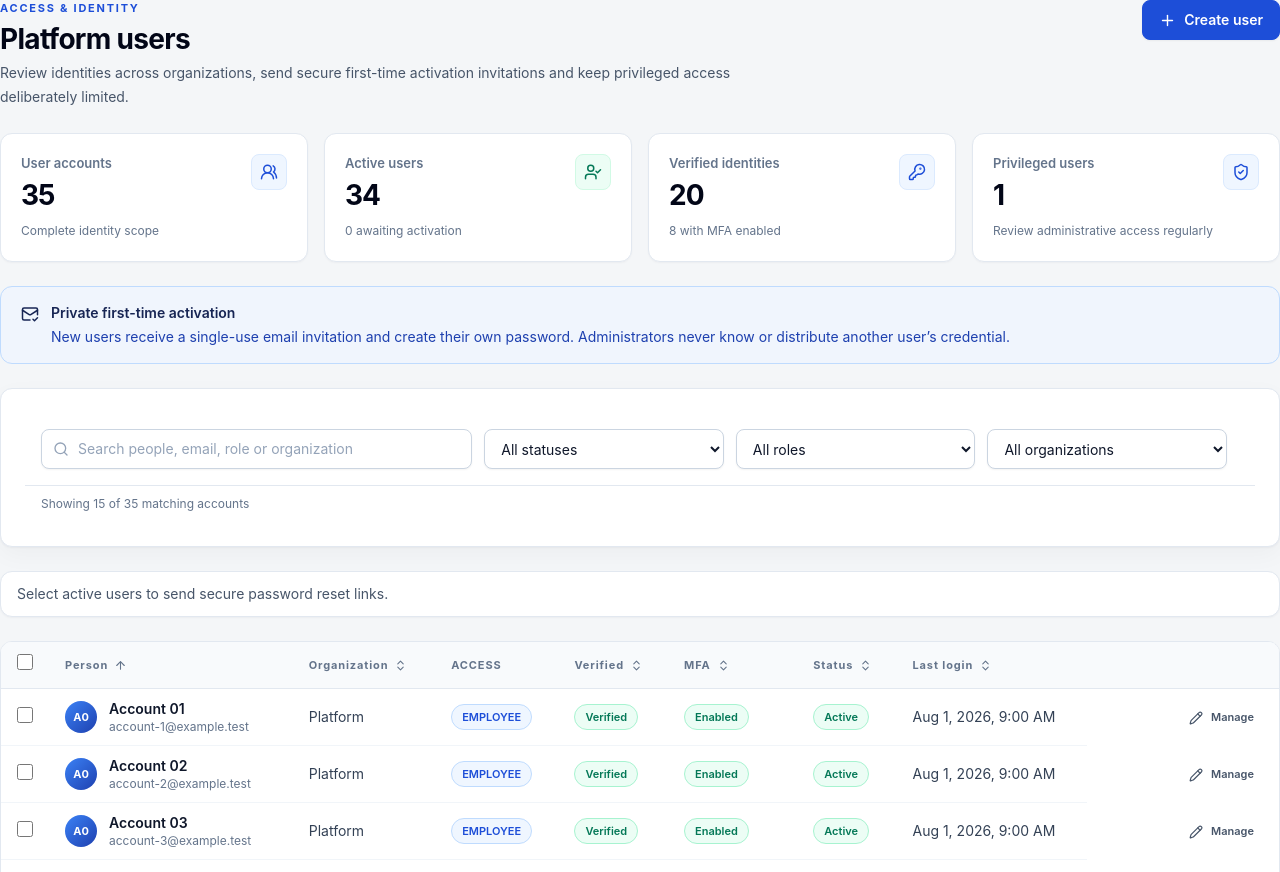
it: updates account lifecycle status and roles from the management dialog
Expected: the text "Showing 15 of 35 matching accounts" is shown, [25,485,1255,522]
Click the button with aria-label "Manage Account 01": [1222, 718] box [1180,704,1263,732]
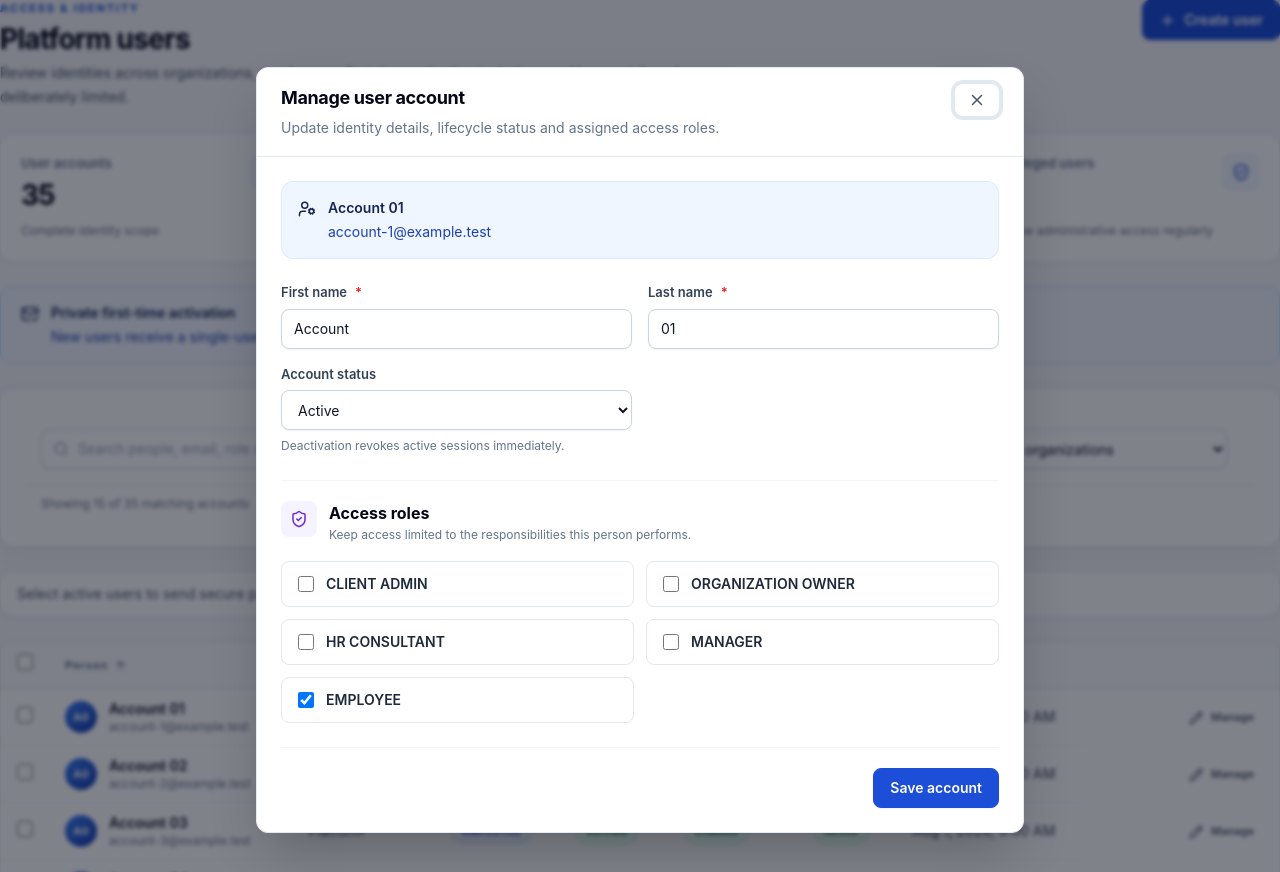
Select "Inactive" in the dropdown labelled "Account status": [456, 410] box [281,390,632,430]
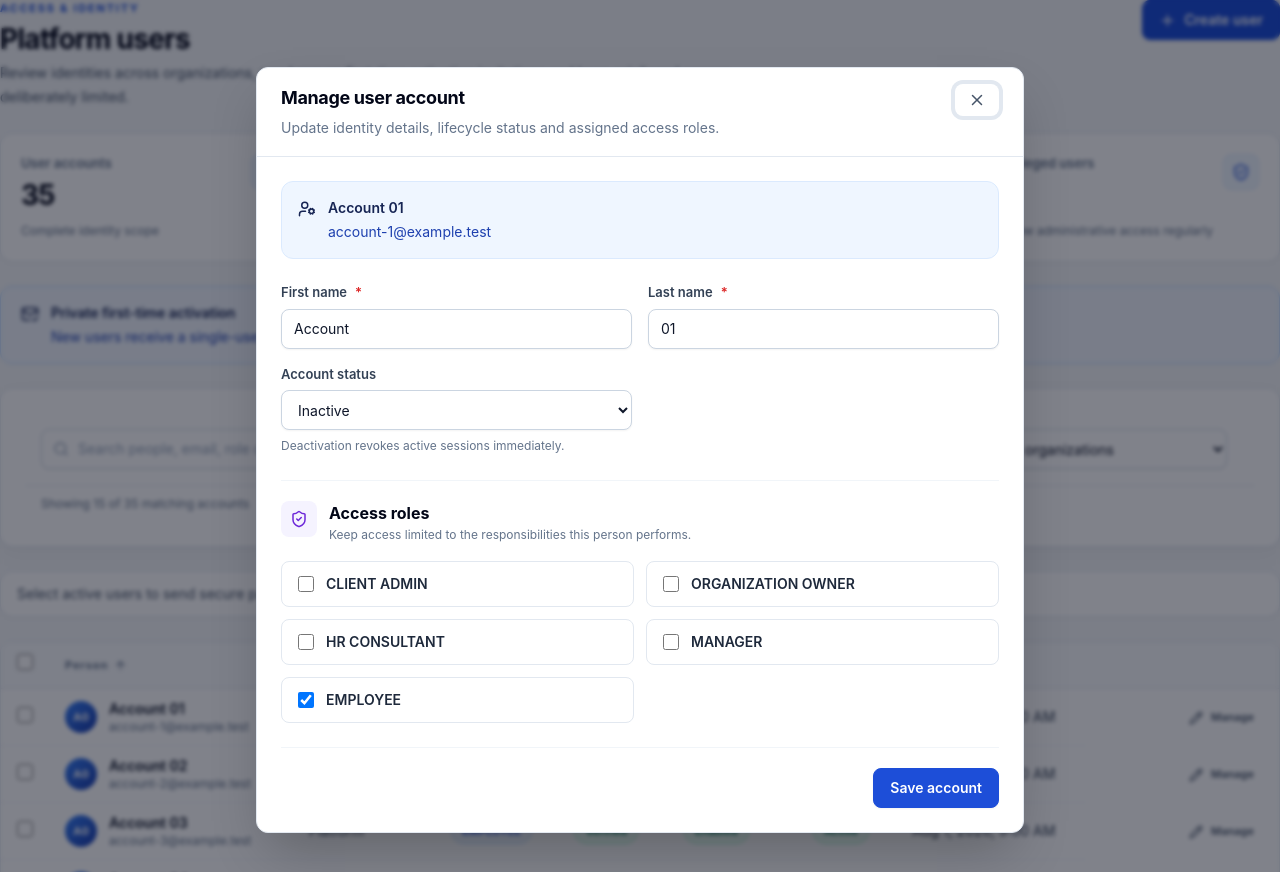
Click the checkbox labelled "MANAGER": [671, 642] box [663,634,679,650]
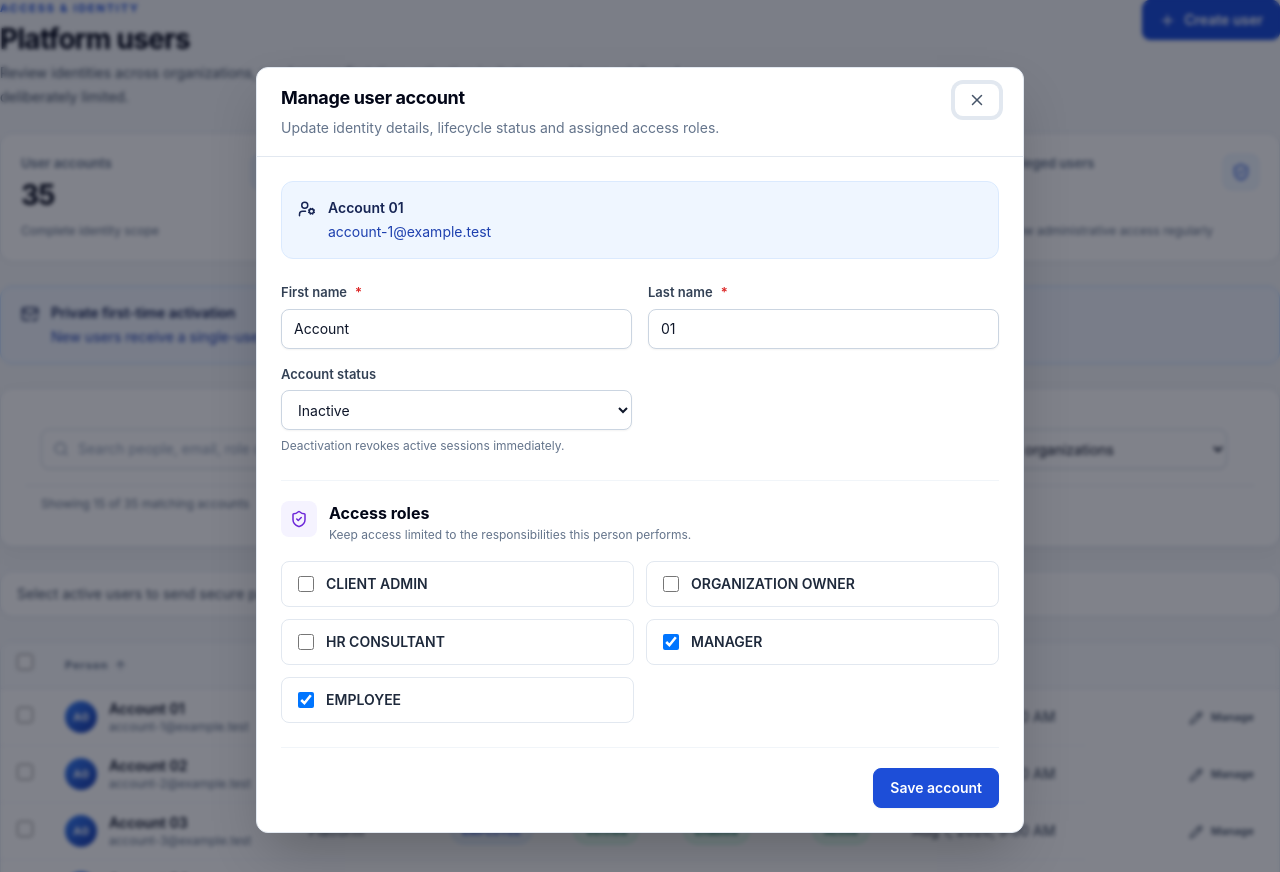
Click the button "Save account": [936, 788] box [873,768,999,808]
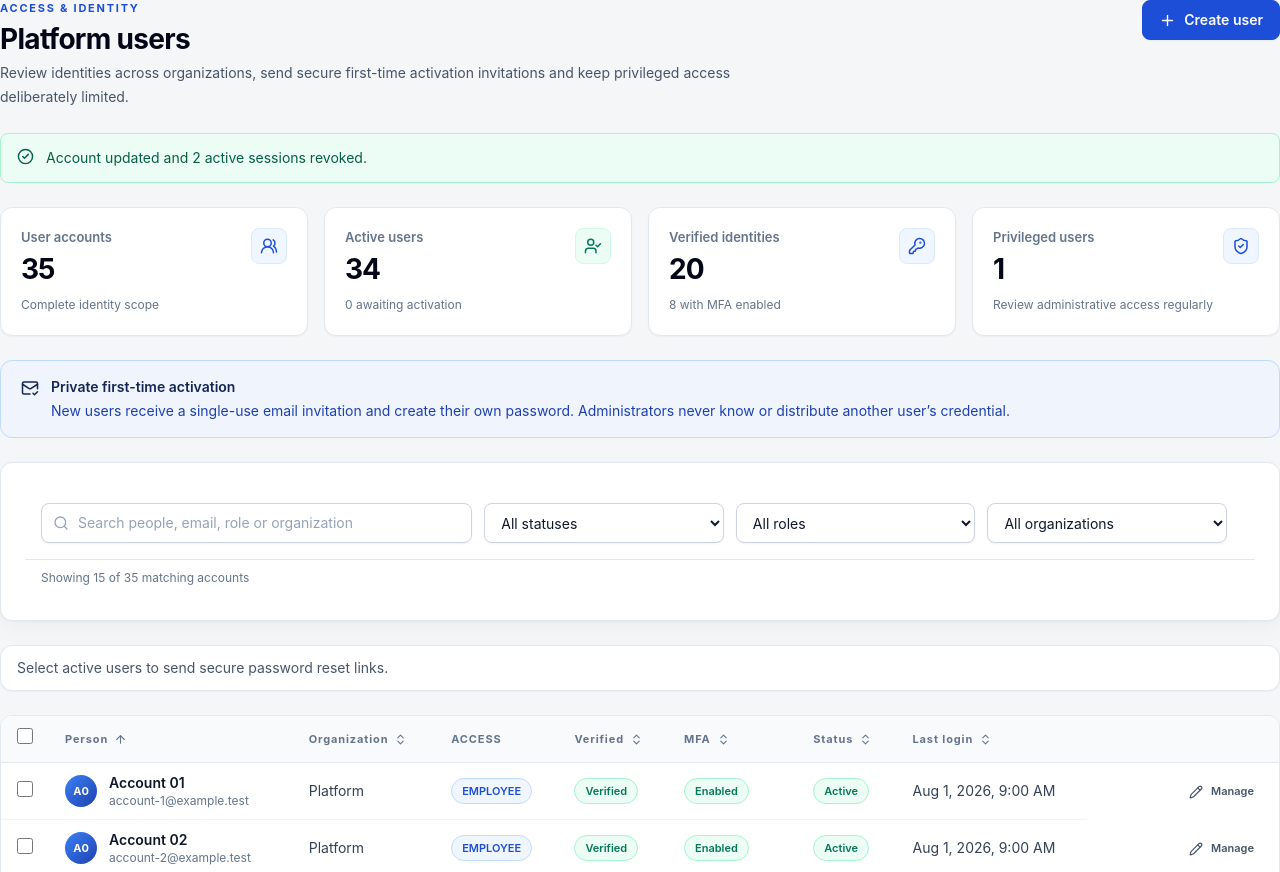
Result: the text "Account updated and 2 active sessions revoked." is shown at [46,146,367,170]
